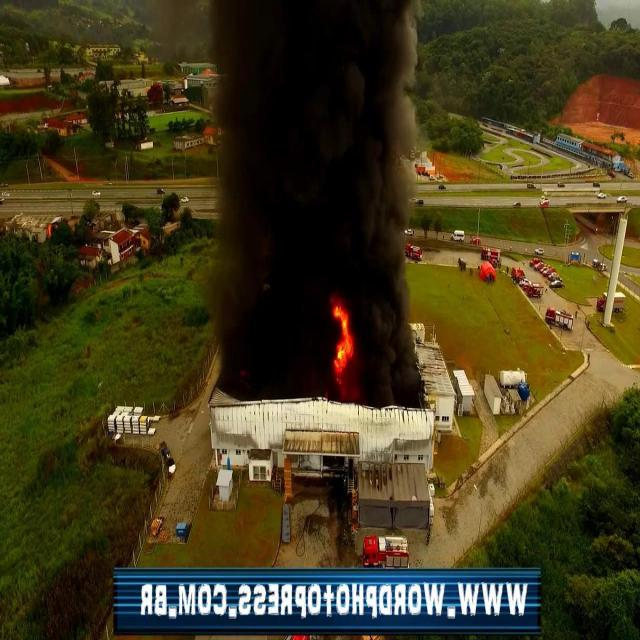Fire: (328, 293, 354, 382)
